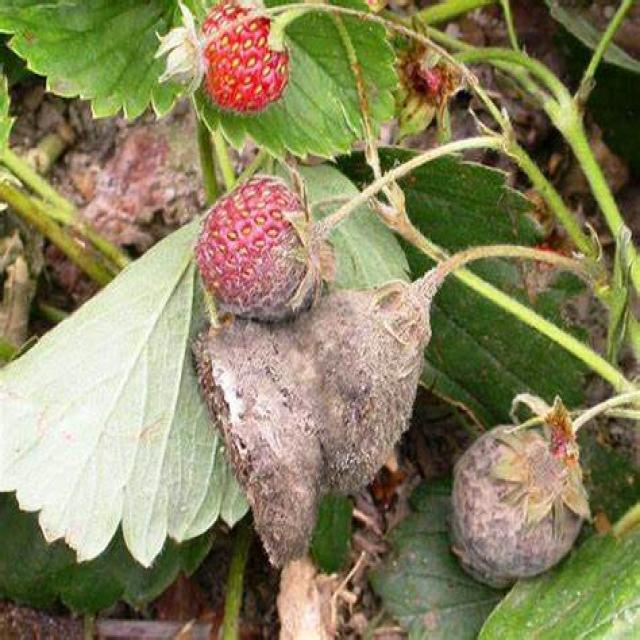Fruta sana: (198, 12, 288, 104)
Moho gris: (249, 254, 443, 516), (442, 413, 588, 588), (201, 164, 312, 320)
